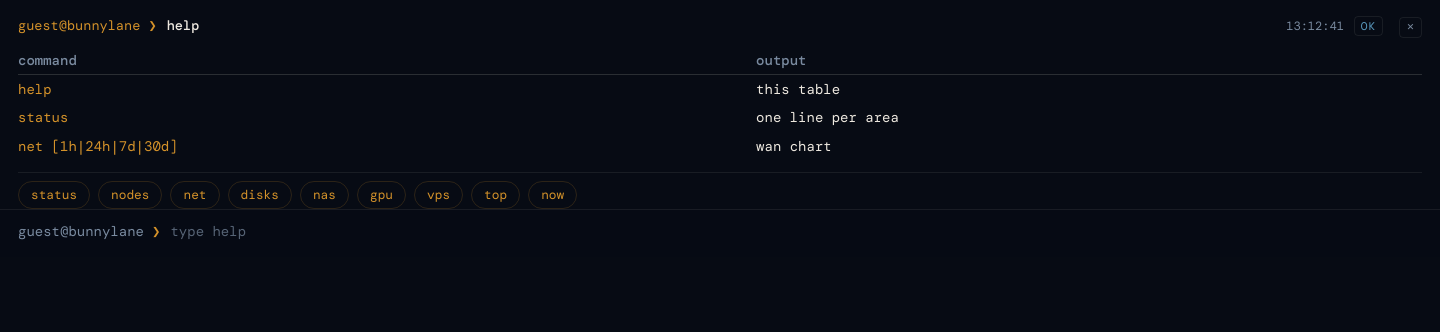
Scenario: unknown command shows the not-found text
This screenshot has width=1440, height=332.
Expected: the text "this table" is shown, [756, 74, 1422, 103]
Type "reboot" into the field named "command" at (795, 232), box [168, 220, 1422, 243]
Then press Enter
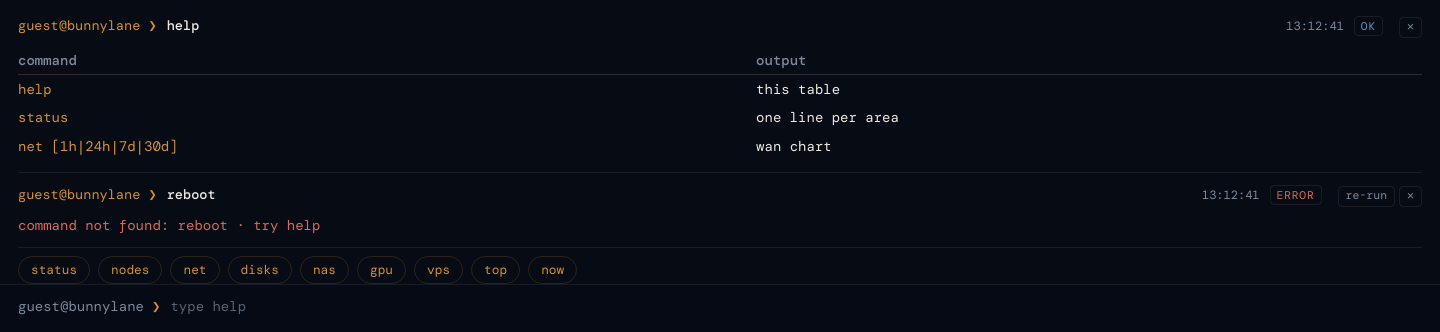
Result: the text "command not found: reboot · try help" is shown at [18, 216, 320, 234]
